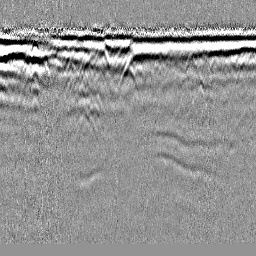cavity: (117, 65, 139, 92)
